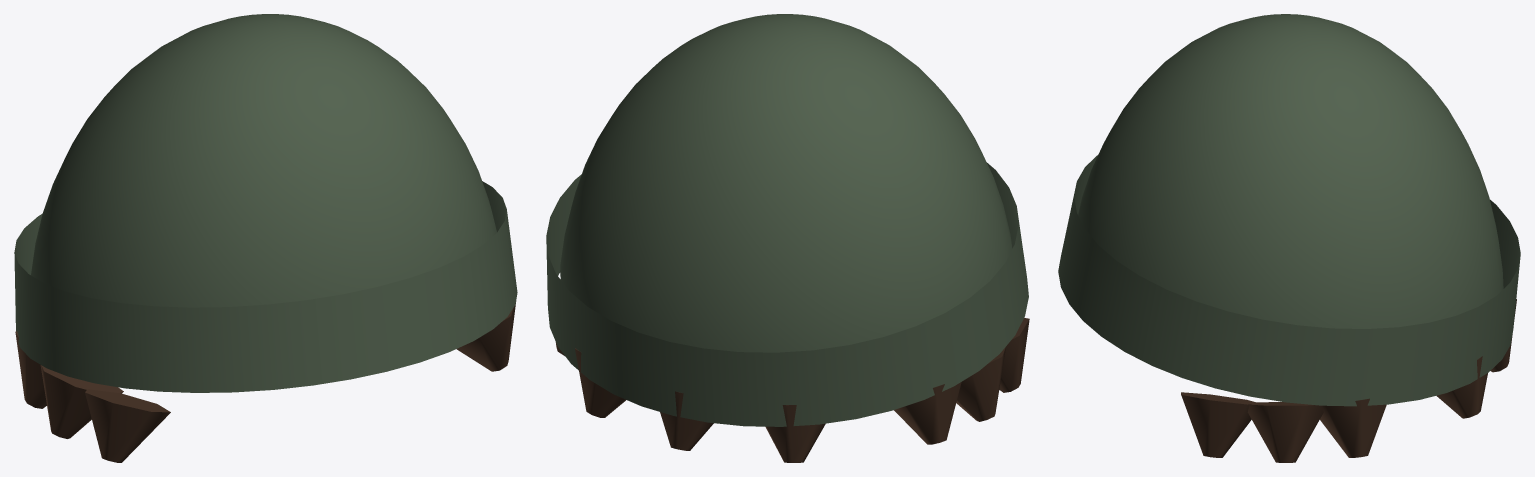
Rendered from hair_beanie.fbx.
3 views of the same model, side by side, from view 1: azimuth 30°, elevation 25°; view 2: azimuth 150°, elevation 25°; view 3: azimuth 270°, elevation 25° (orthographic). The views are drawn at different scales.
Visible parts, largest first — view 1: hair_beanie; view 2: hair_beanie; view 3: hair_beanie.
Boxes of the visible parts, x1,y1,x2,y2 form: hair_beanie: [14, 14, 517, 462]; hair_beanie: [546, 14, 1029, 462]; hair_beanie: [1058, 14, 1520, 462].
Bounding box in the file's own units: 0.3379 × 0.2608 × 0.3221.
